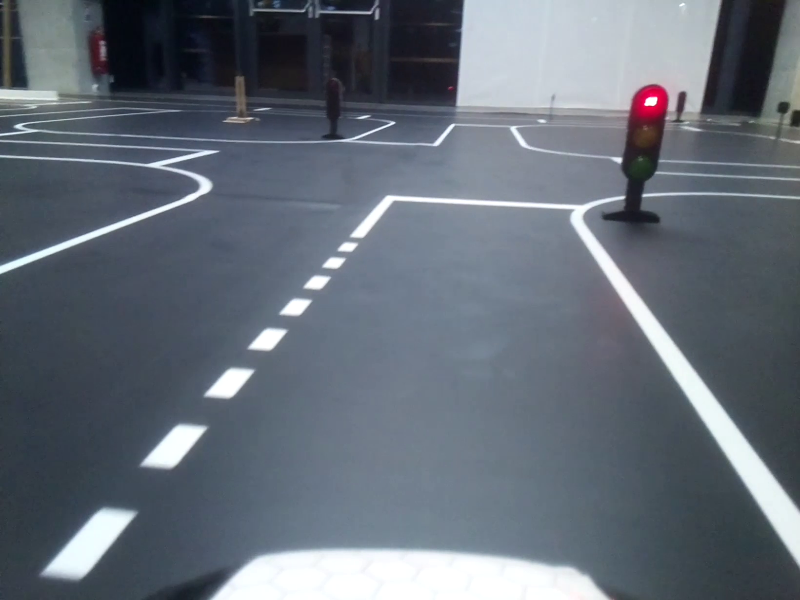traffic_red: (626, 88, 663, 186)
